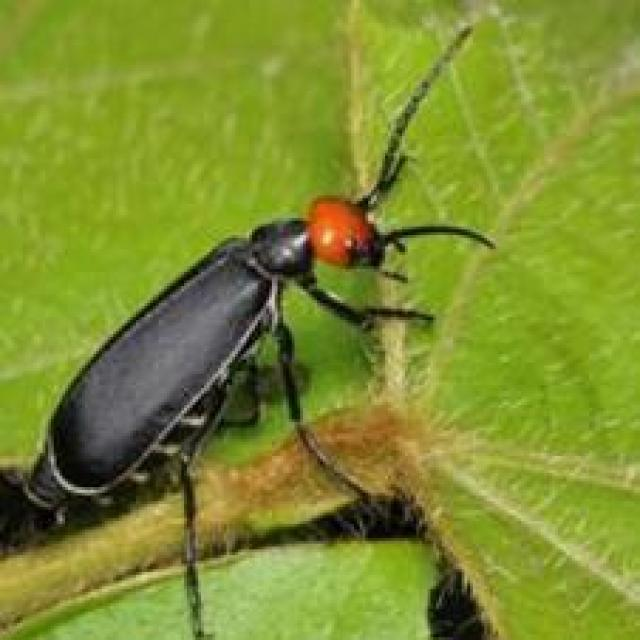BlisterBeetle-Adult-: (20, 25, 489, 529)
